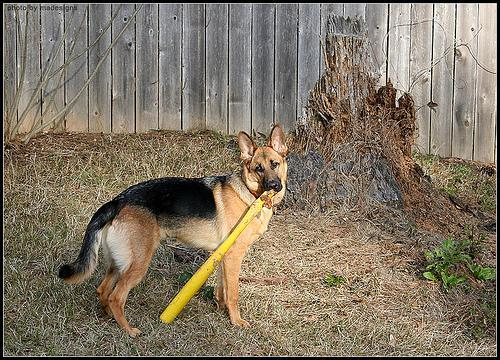German_shepherd: (57, 125, 285, 336)
